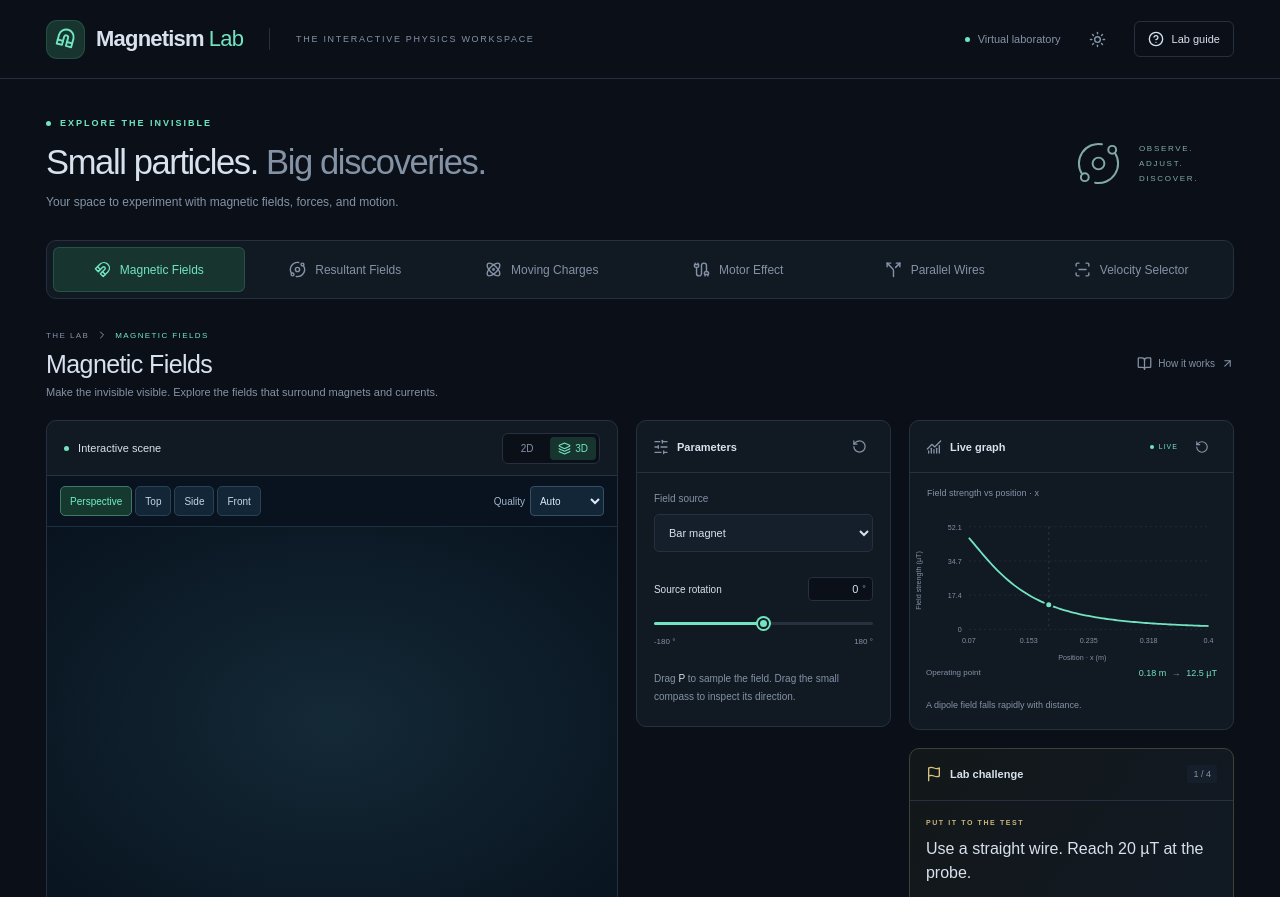
complete laboratory › switches dimensions, records and clears measurements
Click the button "2D" at point(527, 448), box left=506, top=437, right=548, bottom=460
(page scrolled)
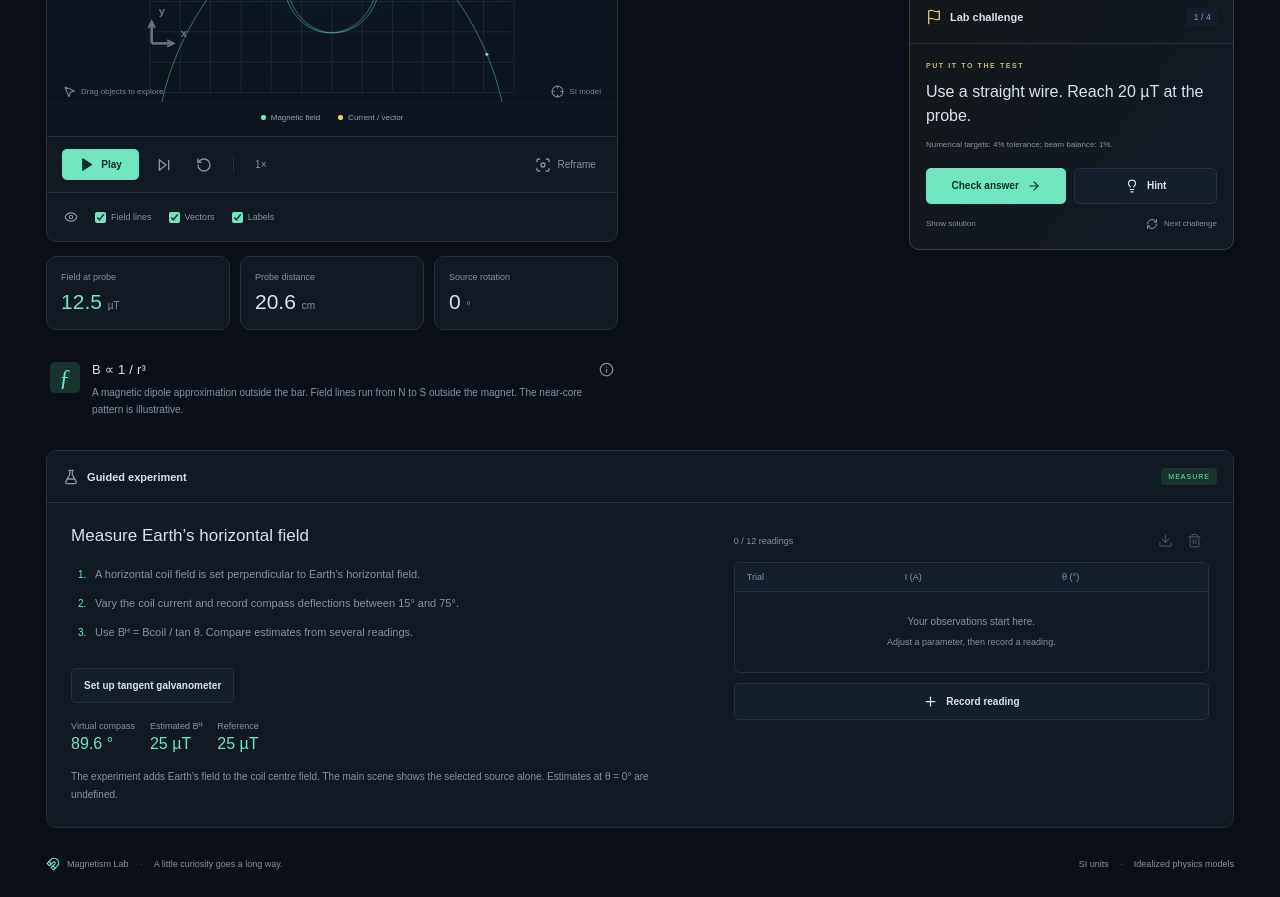
Click the button "Record reading" at point(971, 701), box left=734, top=683, right=1209, bottom=720
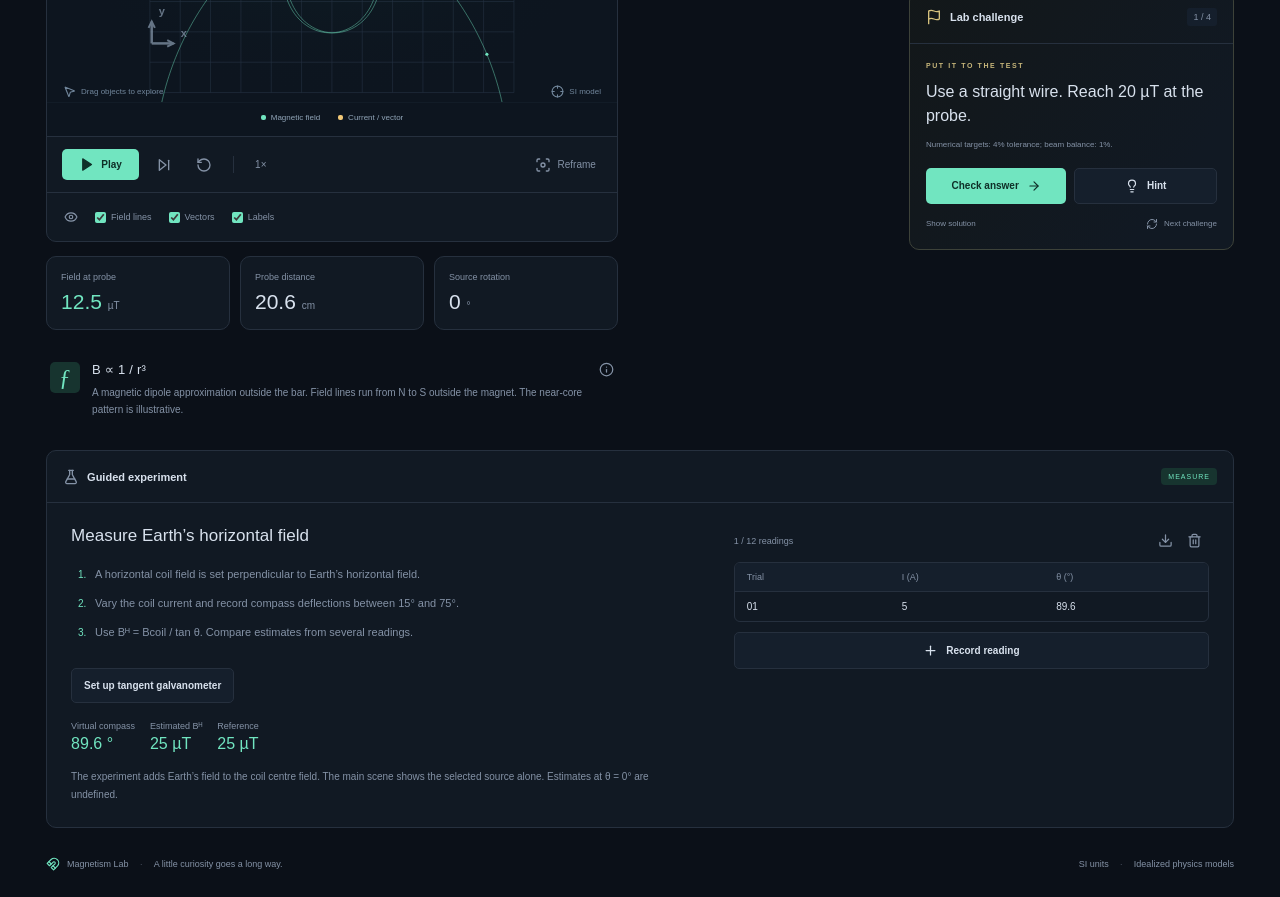
Expected: the text "1 / 12 readings" is shown, left=734, top=536, right=793, bottom=546
Click the button named "Clear measurements" at point(1194, 541), box left=1180, top=526, right=1209, bottom=555
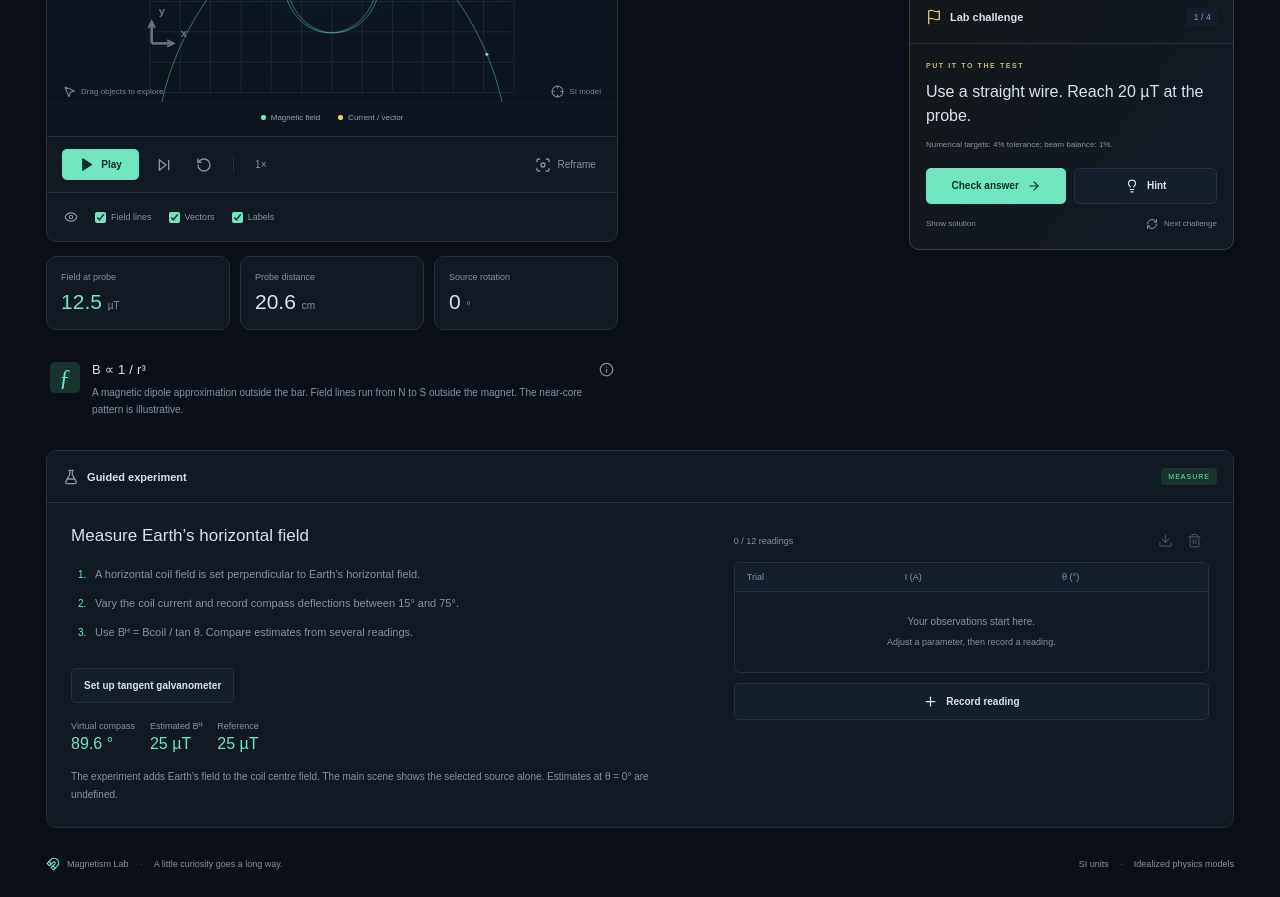
Expected: the text "0 / 12 readings" is shown, left=734, top=536, right=793, bottom=546
